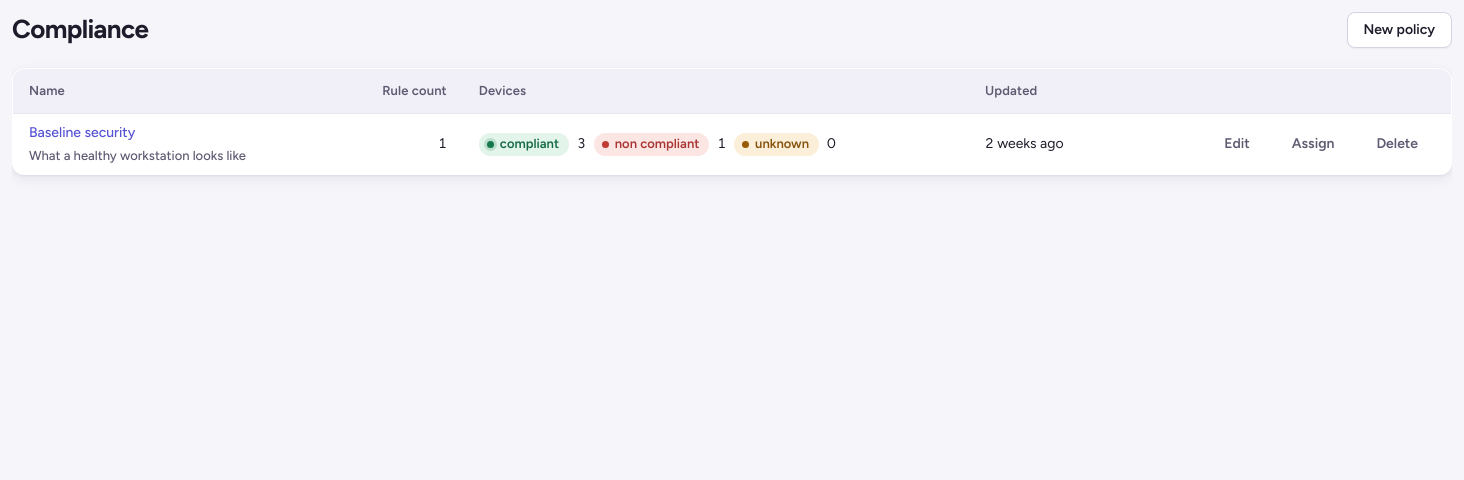
Test: Compliance › says so when a pass for the policy is already running
Click the button "Baseline security" at [82, 133], box [29, 122, 135, 144]
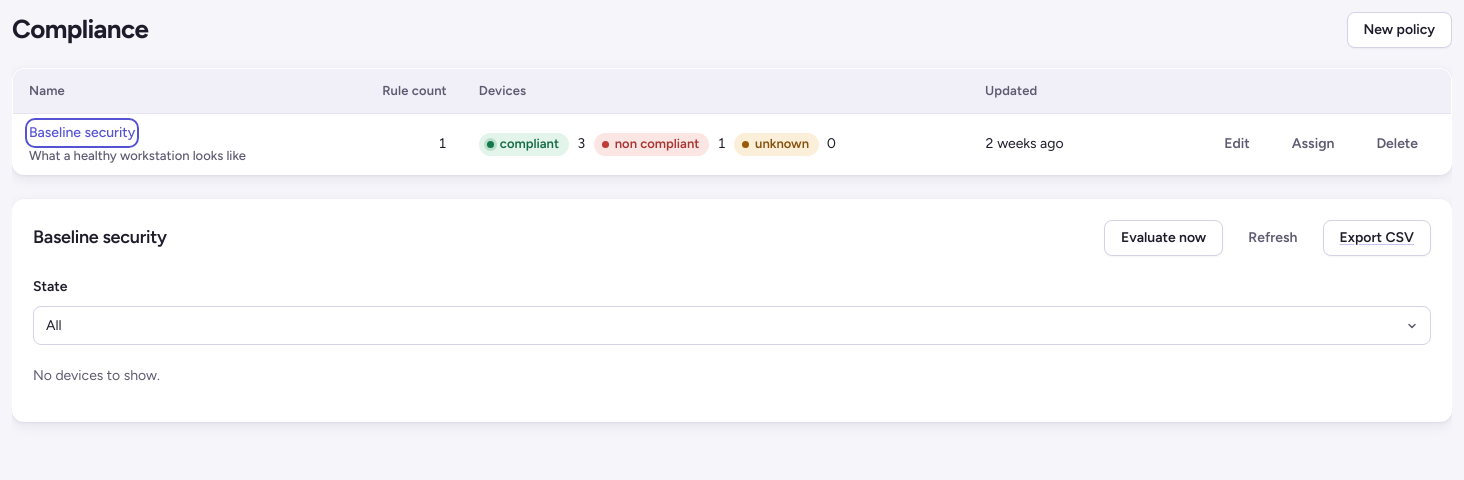
Click the button "Evaluate now" at [1164, 238], box [1104, 220, 1223, 256]
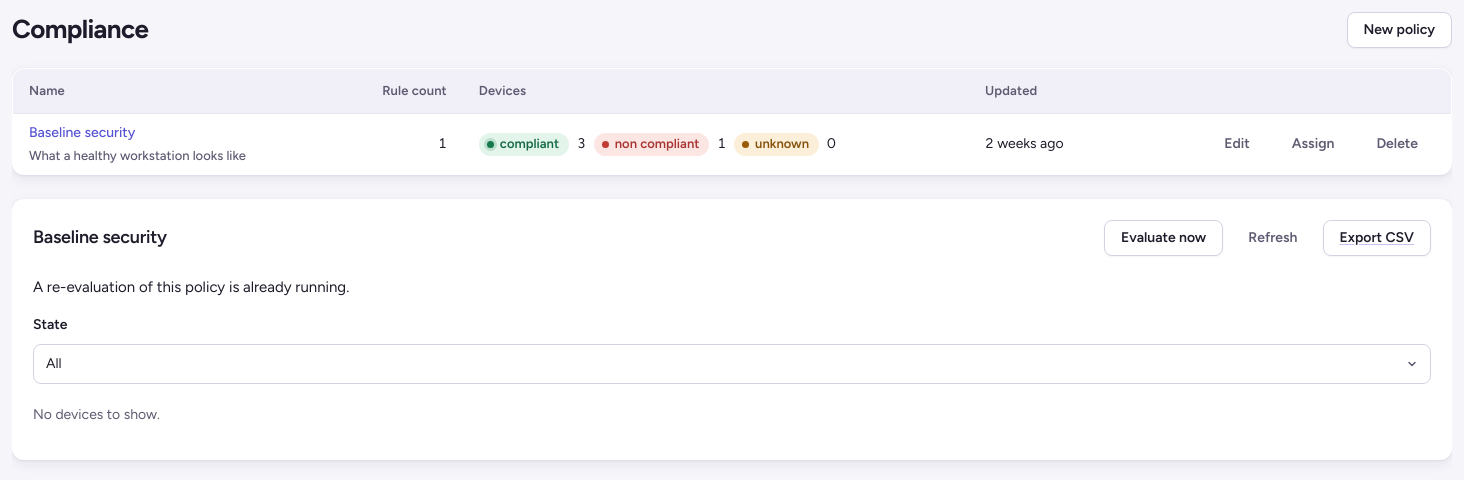
Expected: the text "A re-evaluation of this policy is already running." is shown, [33, 278, 349, 296]
